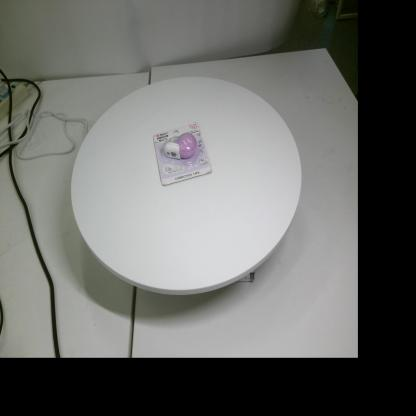Stationery: (153, 122, 212, 186)
